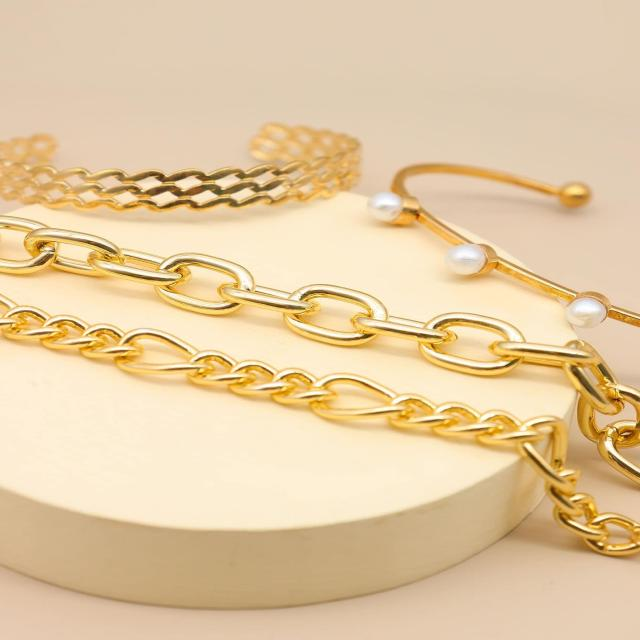bracelet: (0, 74, 640, 578)
